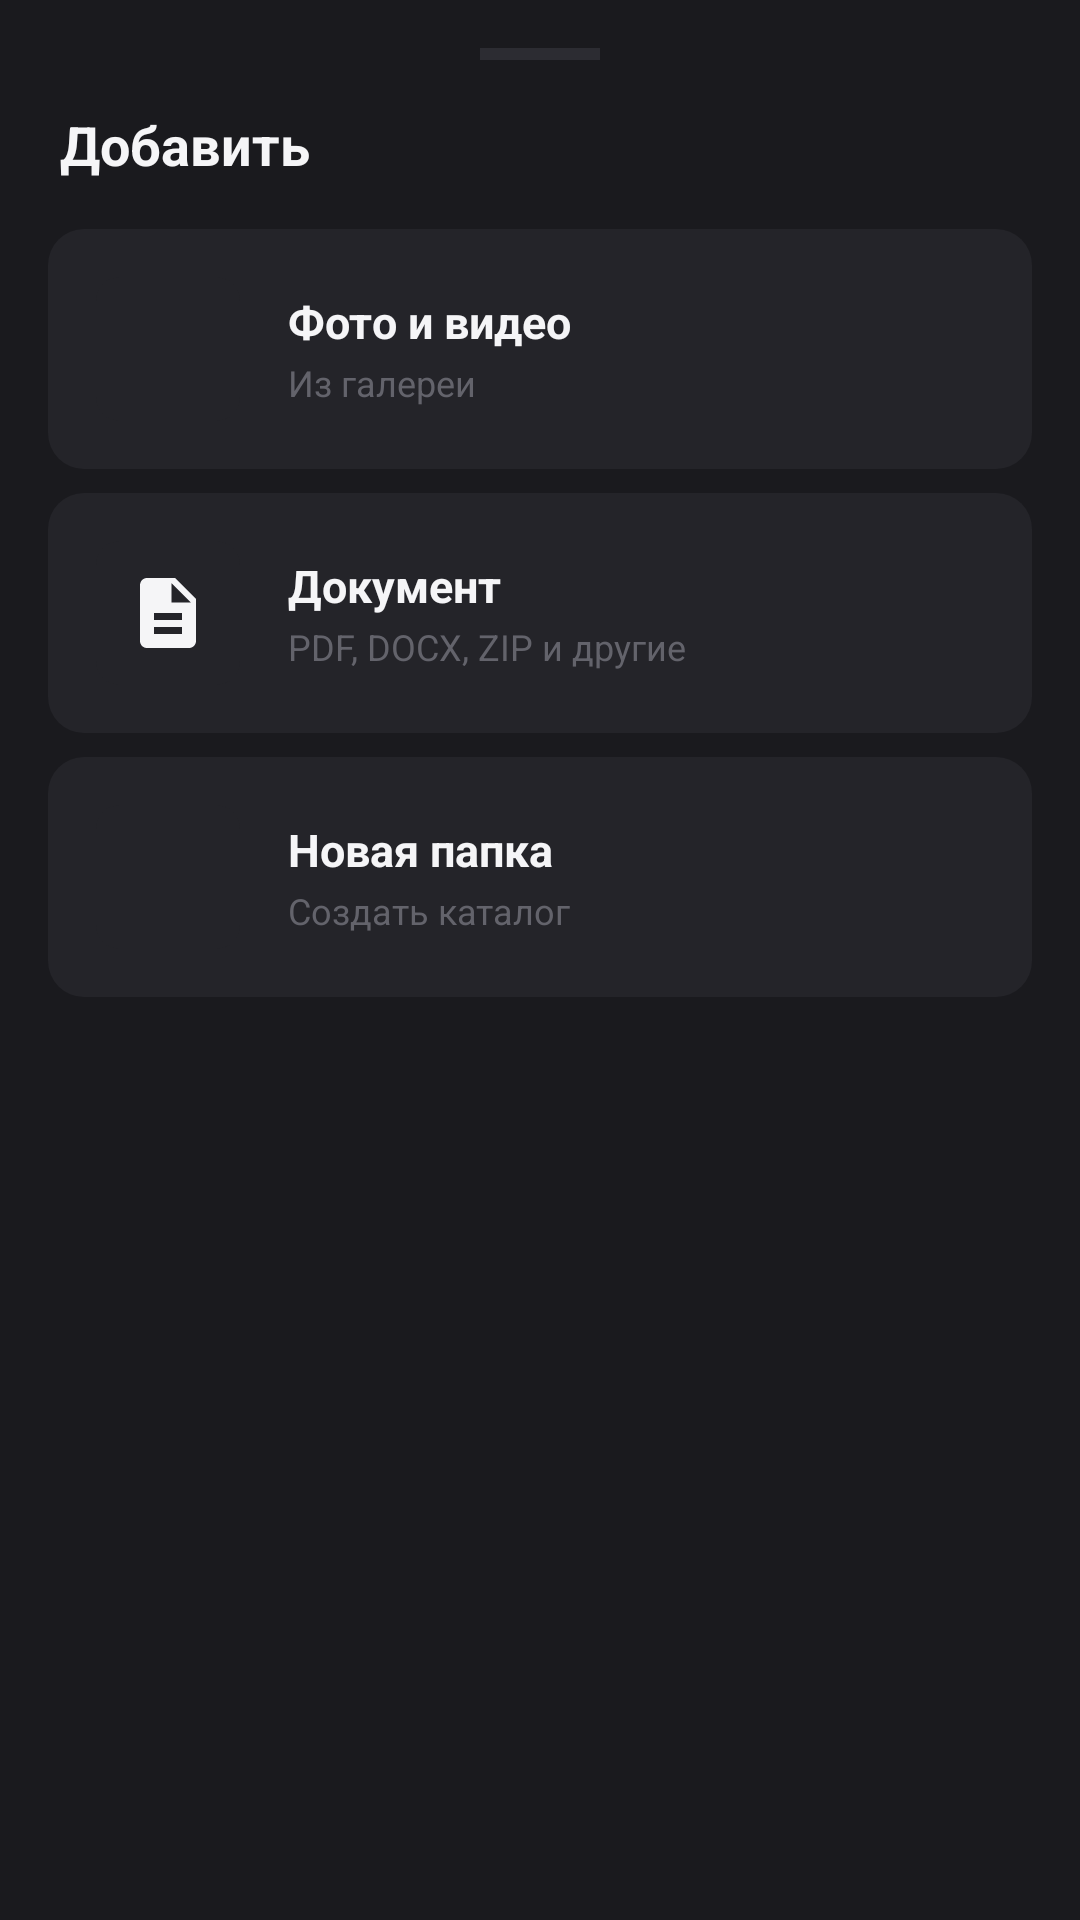

Named icons in this screenshot (1080px x 1920px) and their bounding boxes, (x1, y1, x2, y2):
document: (140, 578, 196, 648)
